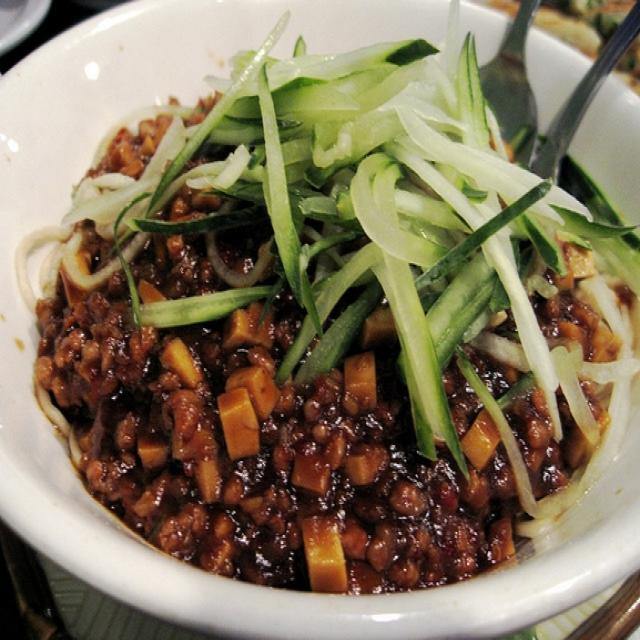面条主食: (11, 10, 631, 618)
